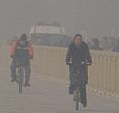person: (65, 33, 90, 111), (8, 34, 35, 95), (90, 37, 102, 51), (101, 36, 110, 50)
